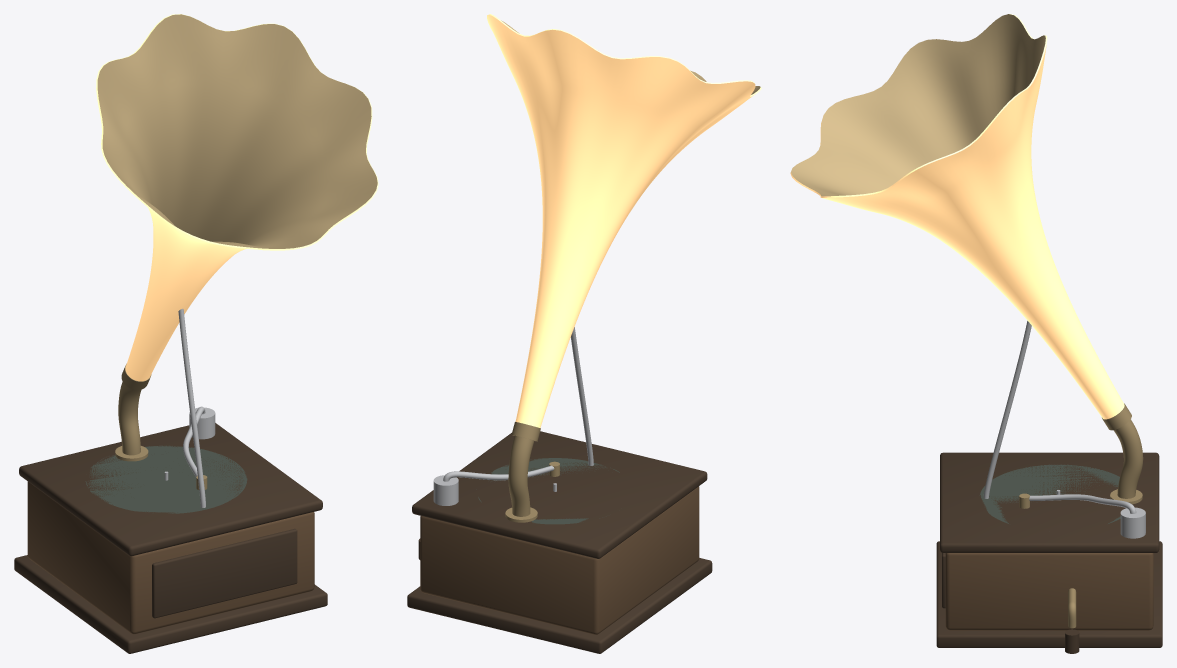
Rendered from gramophone.glb.
3 renders of one model, left to right at view 1: azimuth 30°, elevation 25°; view 2: azimuth 150°, elevation 25°; view 3: azimuth 270°, elevation 25°, orthographic. The views are drawn at different scales.
Visible parts, largest first — view 1: gramophone; view 2: gramophone; view 3: gramophone.
Part boxes in pixels (x1,y1,x2,y2): gramophone: (14, 14, 378, 653); gramophone: (407, 14, 761, 653); gramophone: (790, 14, 1162, 653).
Bounding box in the file's own units: 0.6593 × 1.37 × 0.8232.
